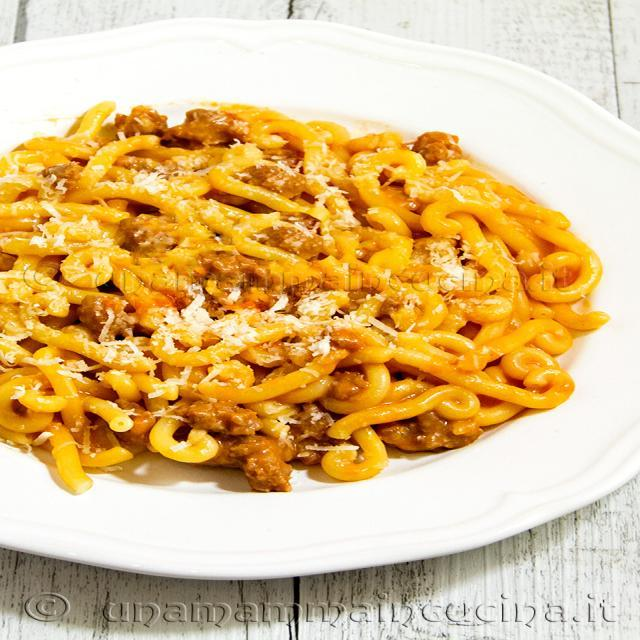Pasta al ragu: (10, 86, 594, 488)
